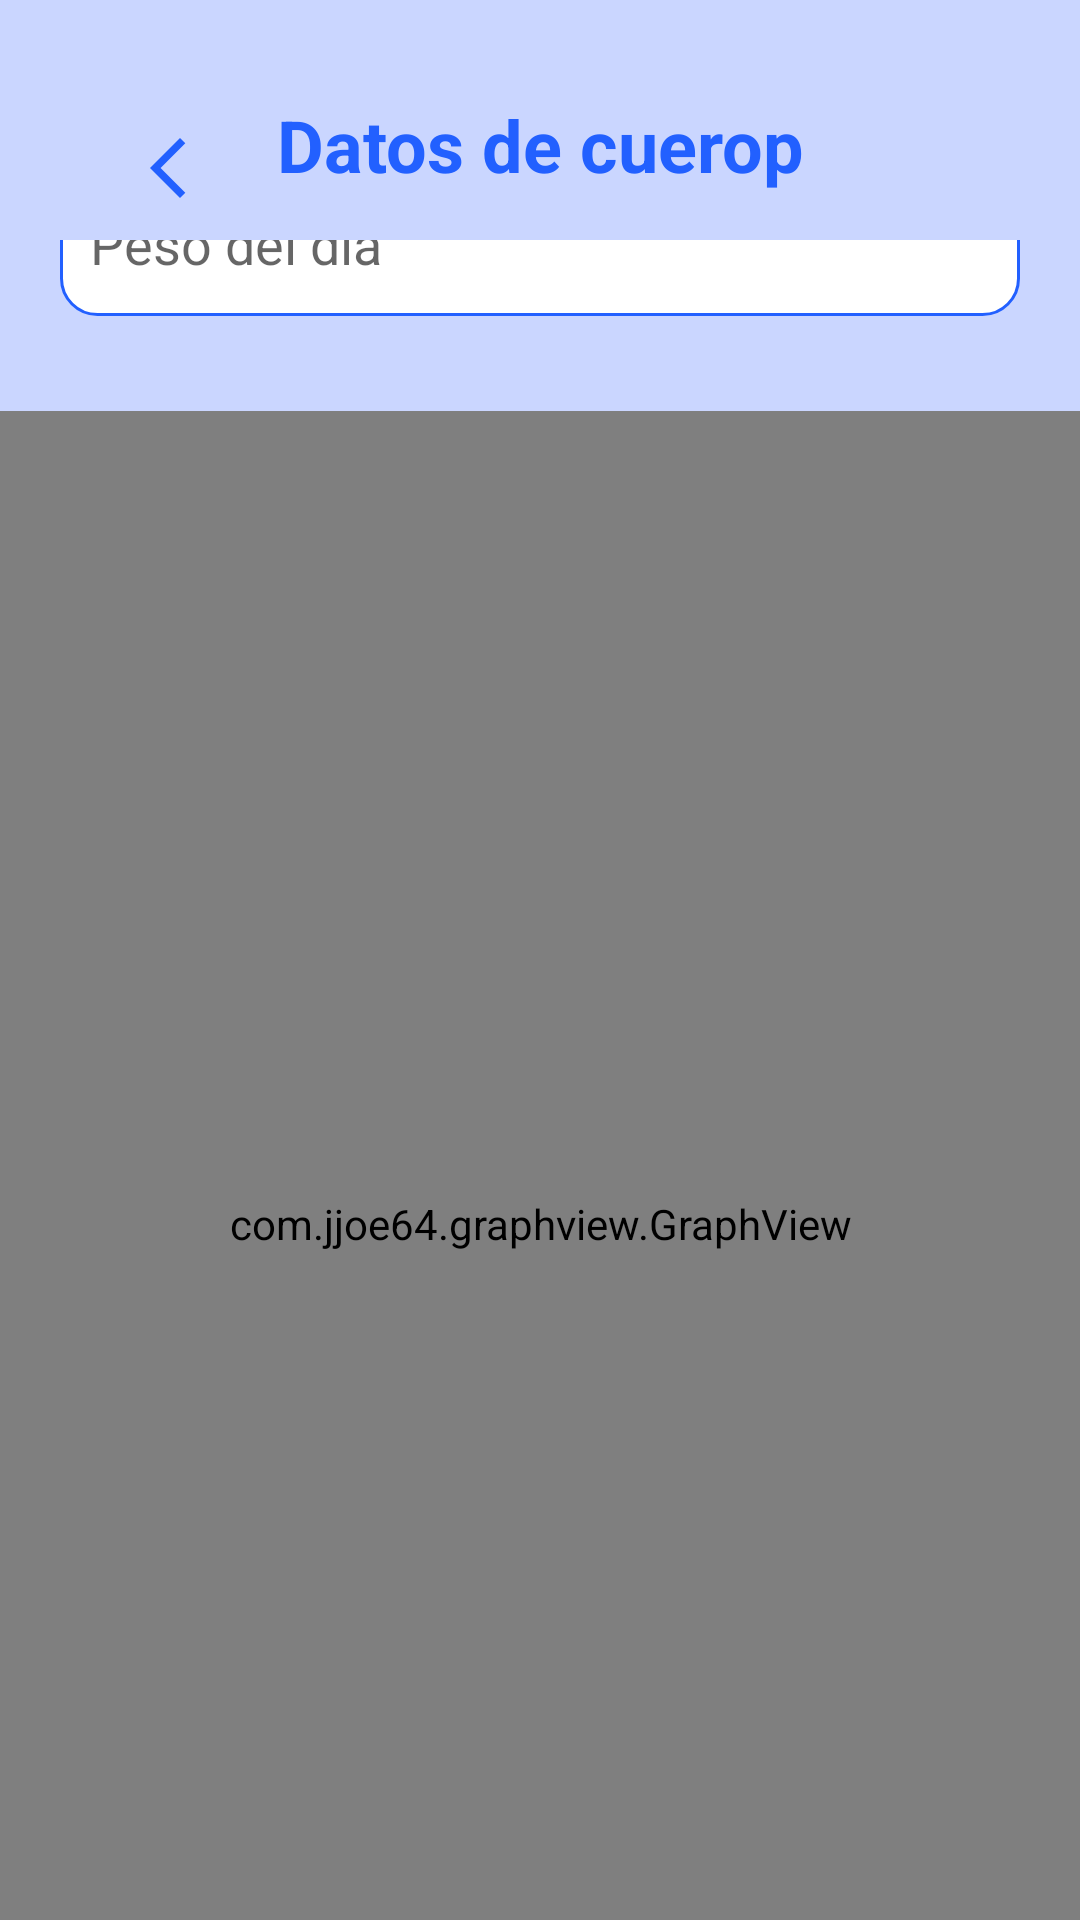

Where icons sit on this 1080 x 1920 app screen, as (x1, y1, x2, y2):
back button: (150, 138, 185, 198)
